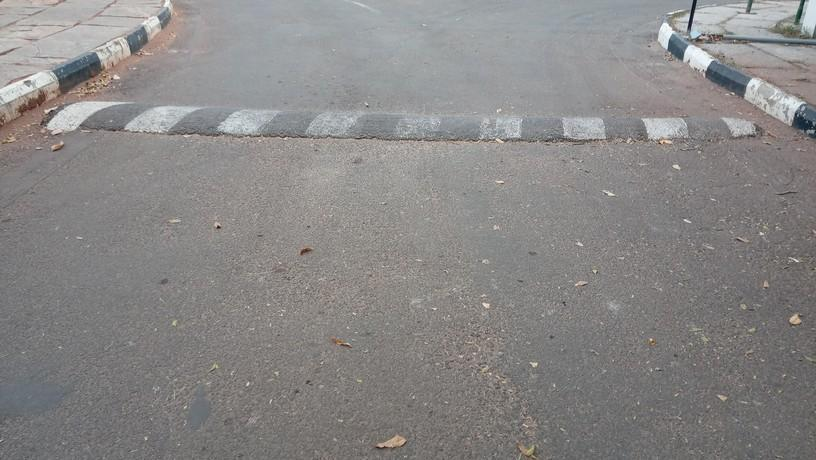speedbreaker: (37, 89, 780, 154)
